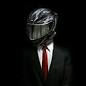helmets: (24, 5, 59, 50)
